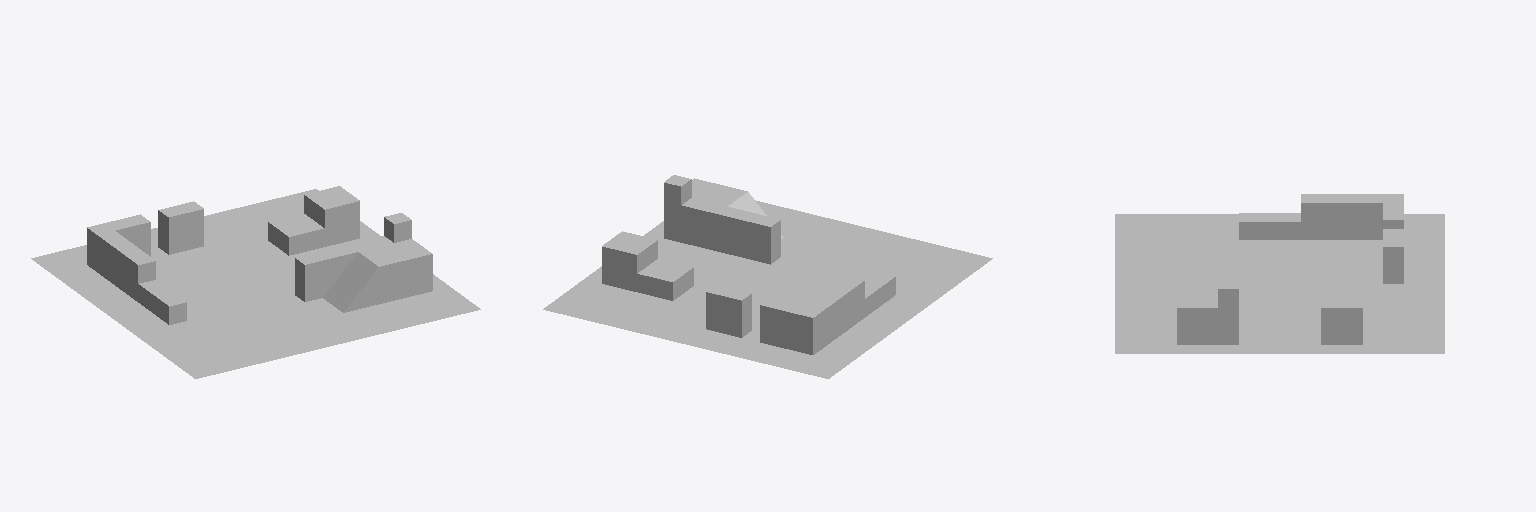
File: test_level.obj
3 views of the same model, side by side, from view 1: azimuth 30°, elevation 25°; view 2: azimuth 150°, elevation 25°; view 3: azimuth 270°, elevation 25° (orthographic).
Parts seen in each view (by area): view 1: Plane; view 2: Plane; view 3: Plane.
Part boxes in pixels (x1,y1,x2,y2): Plane: (31,186,480,378); Plane: (543,175,992,378); Plane: (1115,194,1444,353).
Bounding box in the file's own units: 16 × 3 × 16.